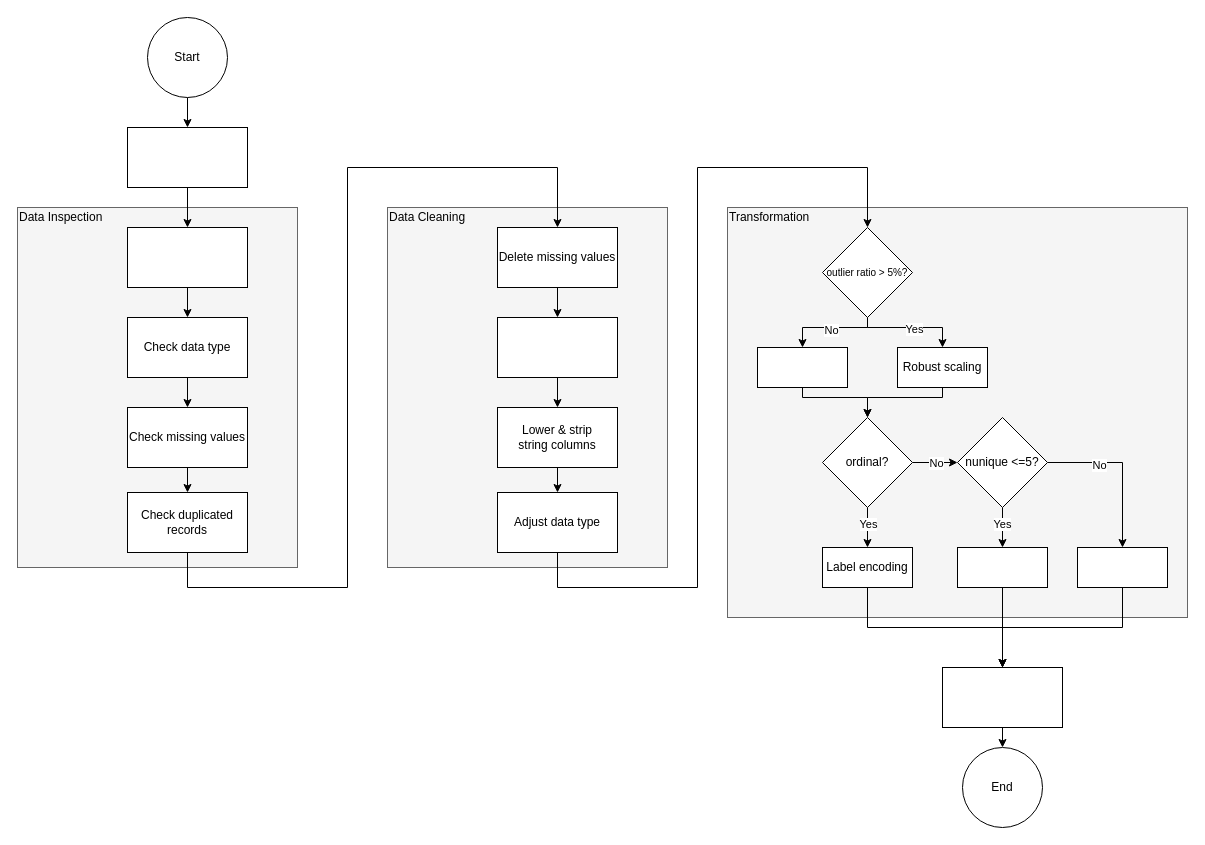
Some shapes in this 1205 by 845 pixel diagram are drawn without their labels. Each missing label, with the centre of its shape:
"Check initial size" belongs at [187,257].
"Drop duplicate records" belongs at [557,347].
"Export processed dataset" belongs at [1002,697].
"Frequency encoding" belongs at [1122,567].
"Load dataset" belongs at [187,157].
"MinMax scaling" belongs at [802,367].
"One hot encoding" belongs at [1002,567].
